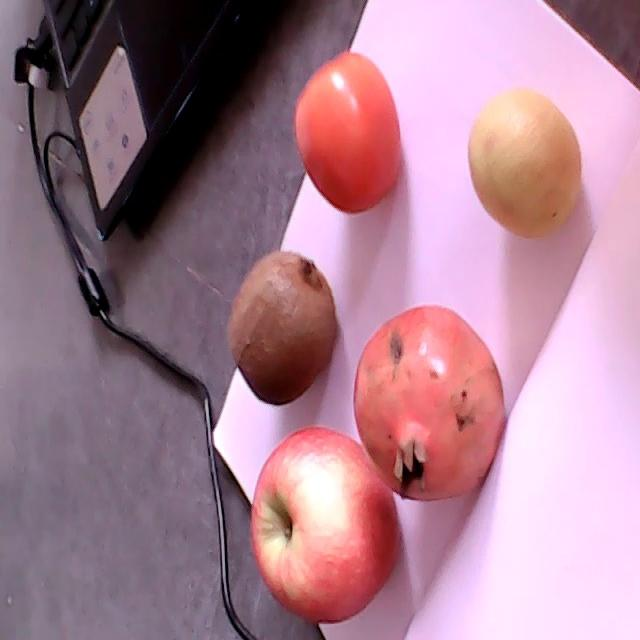apple: (251, 429, 400, 622)
kiwi: (228, 249, 338, 405)
lemon: (468, 93, 582, 238)
pomegranate: (355, 305, 504, 503)
tomato: (294, 52, 401, 211)
